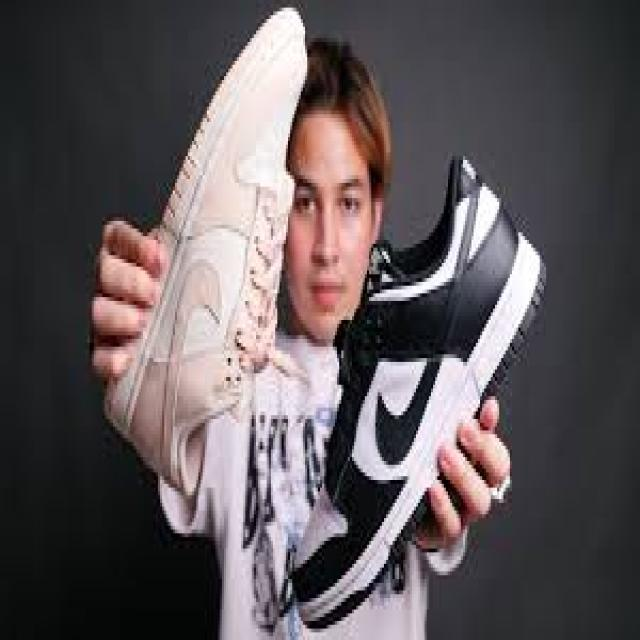shoes: (69, 2, 579, 628), (292, 150, 548, 630), (97, 2, 308, 501)
